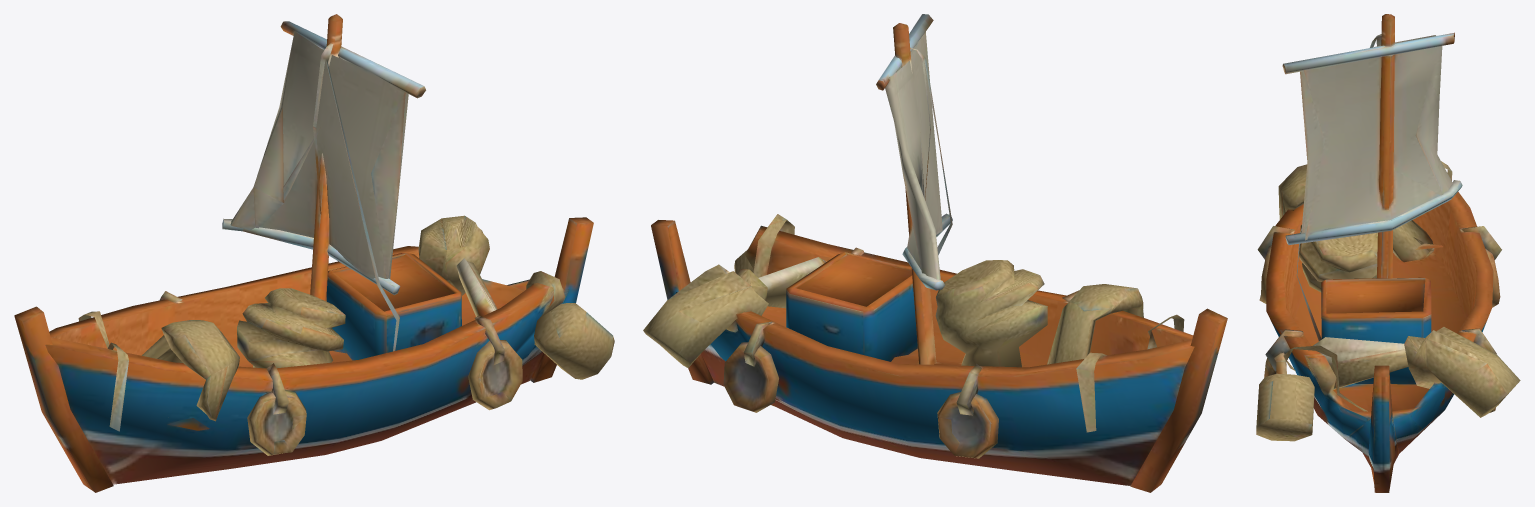
Rendered from fishing-boat.glb.
3 views of the same model, side by side, from view 1: azimuth 30°, elevation 25°; view 2: azimuth 150°, elevation 25°; view 3: azimuth 270°, elevation 25° (orthographic). The views are drawn at different scales.
Bounding box in the file's own units: 0.9653 × 0.663 × 0.4121.
1 material, 1 textured.
